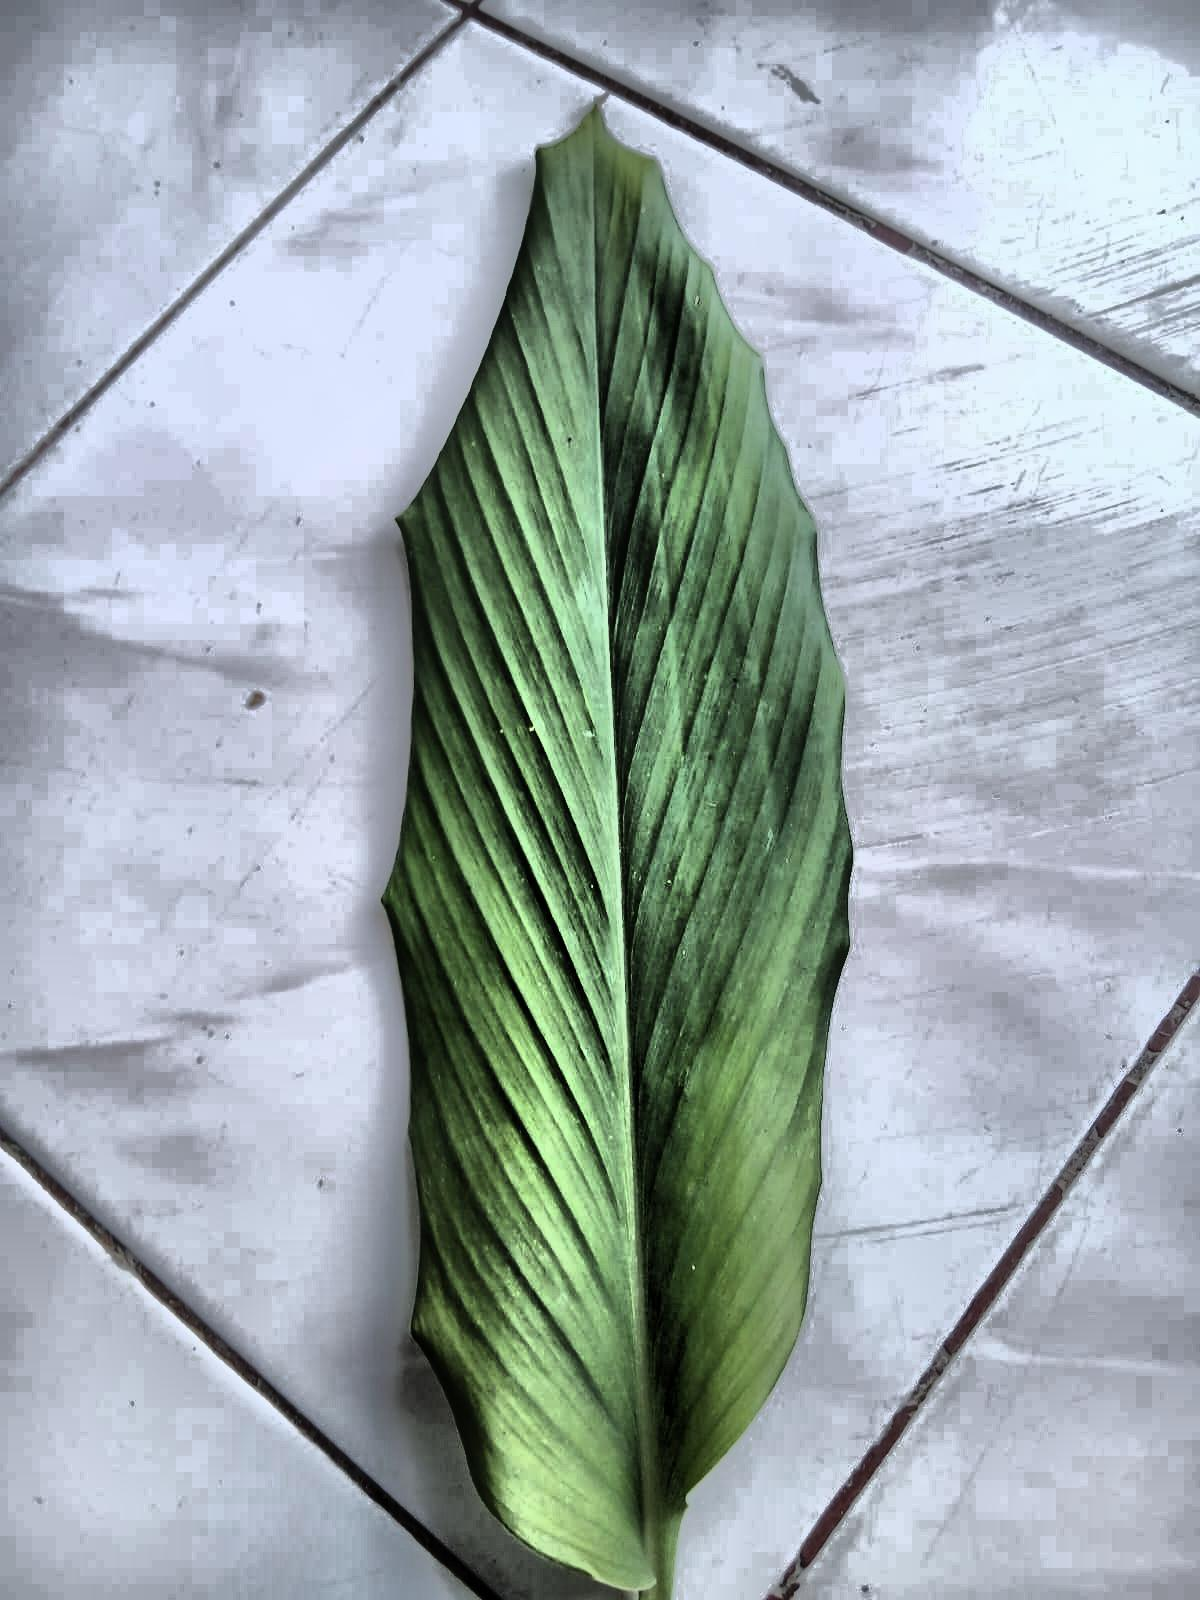daun kunyit: (383, 110, 851, 1599)
